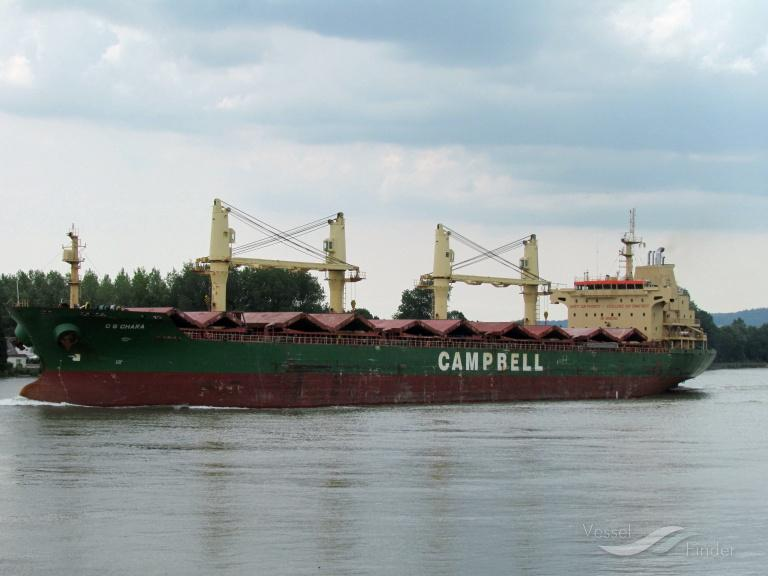OCR: (430, 344, 555, 380)
